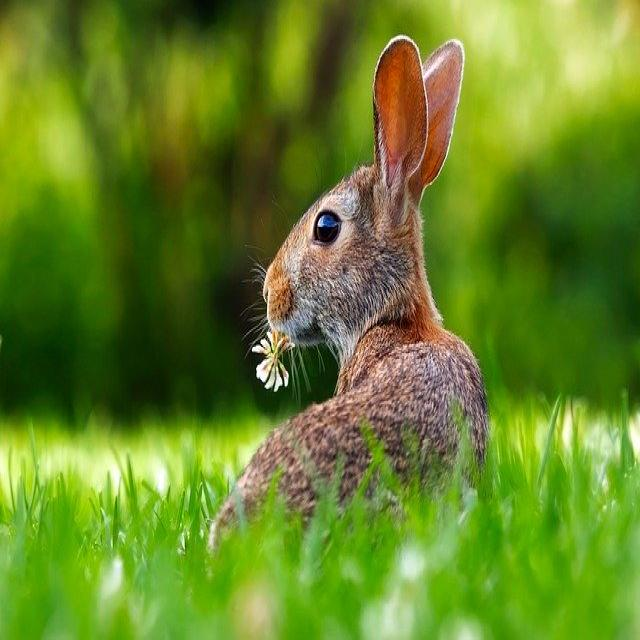Herbivorous: (215, 36, 490, 530)
